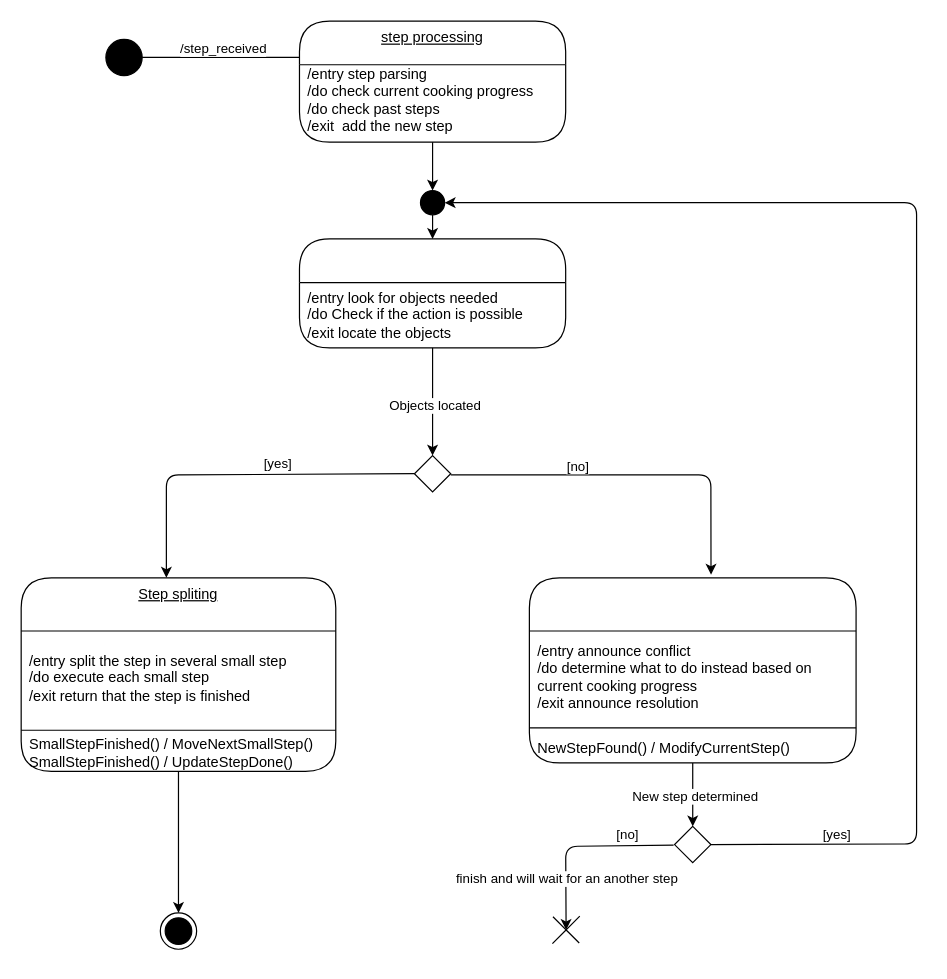
Image size: 947x979. Some labels were removed from this diagram. The box of each missing label's shape, as (x1, y1, x2, y2) in pixels:
Check requirements: (298, 238, 566, 348)
Conflict Resolution: (528, 577, 856, 763)
